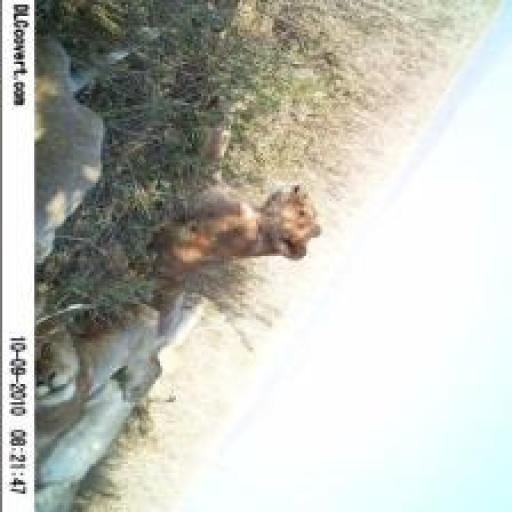lion: (110, 121, 332, 366)
